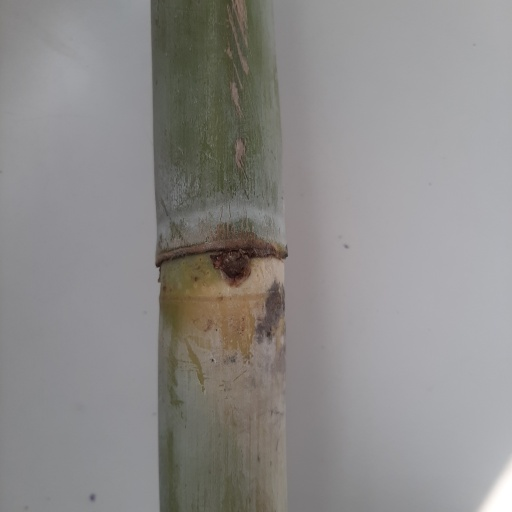Bud: (221, 251, 249, 280)
